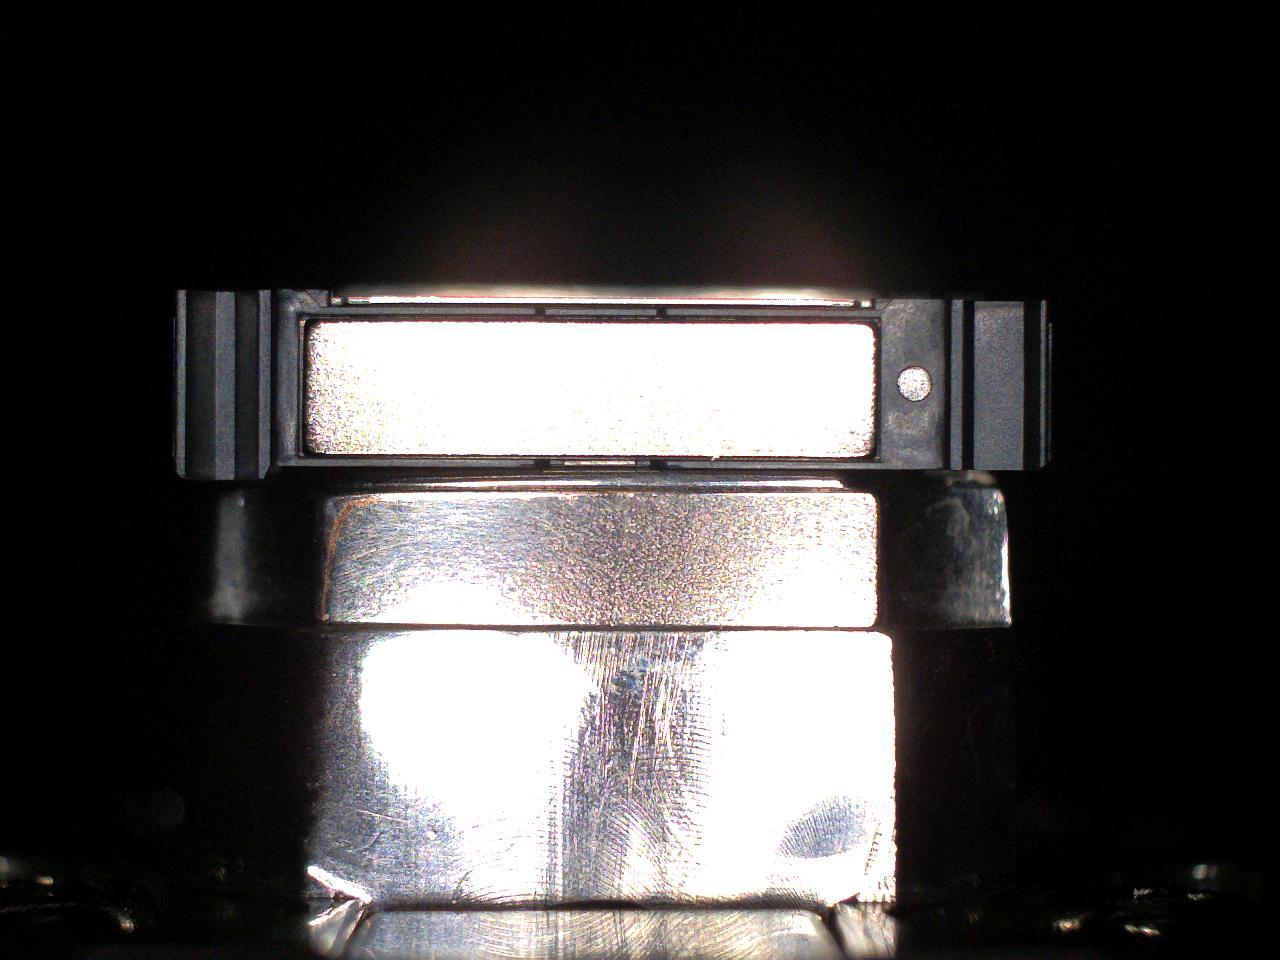frame: (172, 287, 1054, 481)
gap: (306, 316, 539, 325), (667, 317, 882, 325), (668, 457, 881, 464), (308, 455, 538, 461), (546, 316, 658, 324), (543, 455, 653, 461)
magnetic: (307, 323, 875, 457)
